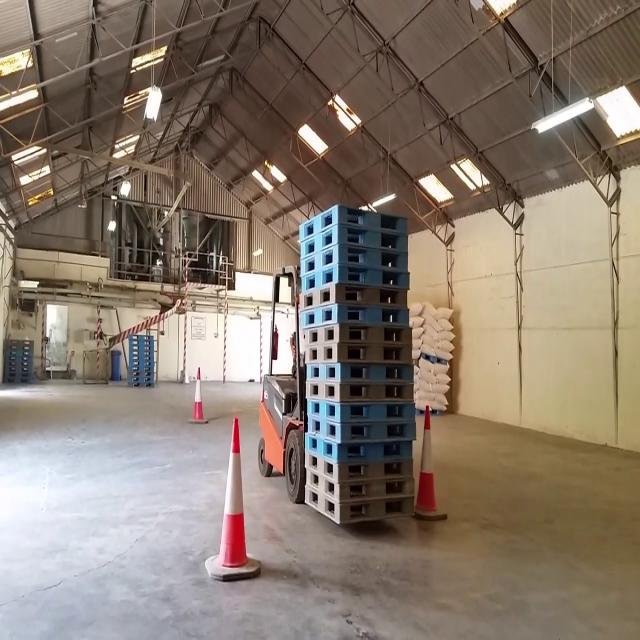Chariot elevateur: (250, 262, 313, 507)
